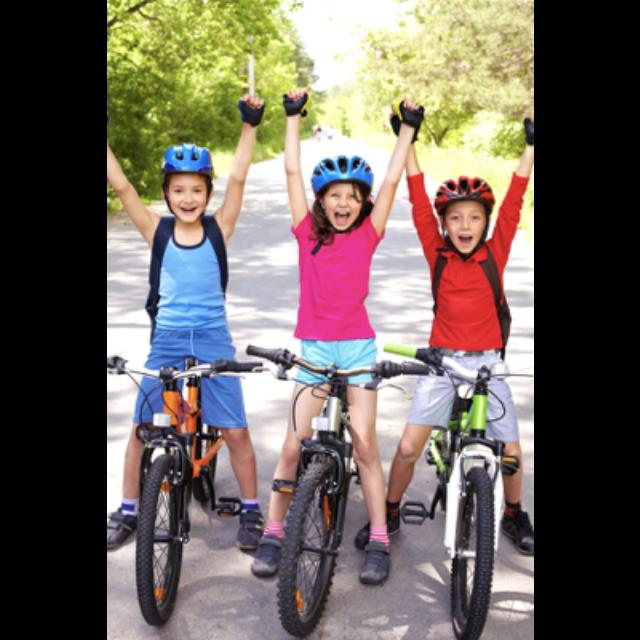With Helmet: (421, 170, 503, 264), (303, 155, 389, 237), (146, 143, 230, 221)
